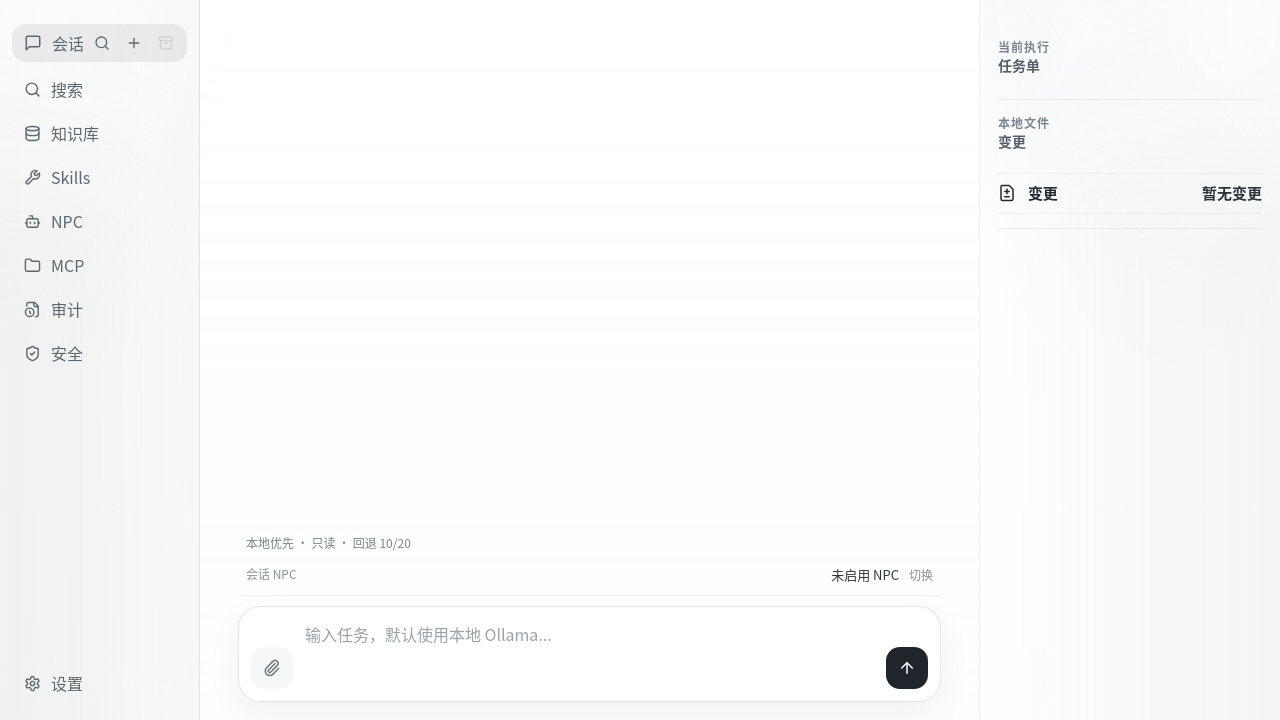
App chat fallback › preflights Ollama once when the user submits before startup model detection finishes
This screenshot has width=1280, height=720.
In the text box labelled "输入任务": (588, 654) x1=303 y1=619 x2=874 y2=689, type "解释一下享元模式"
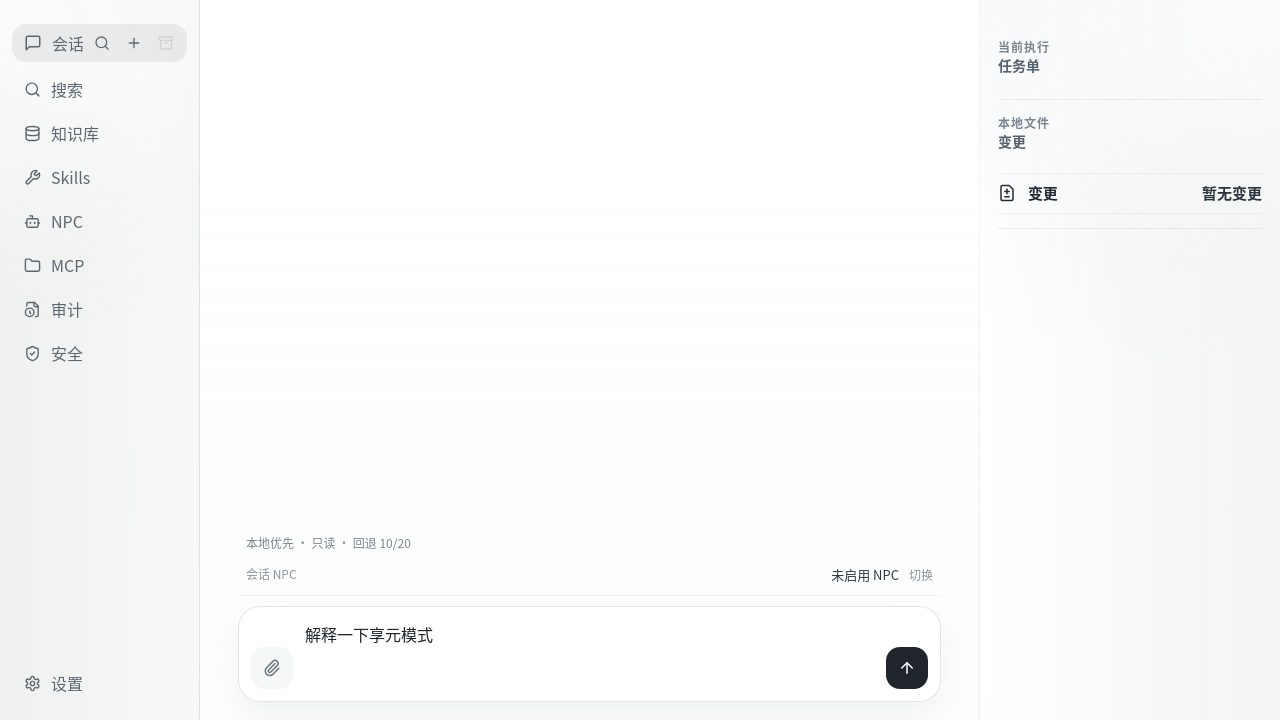
Click the button named "发送": (907, 668) x1=886 y1=647 x2=928 y2=689
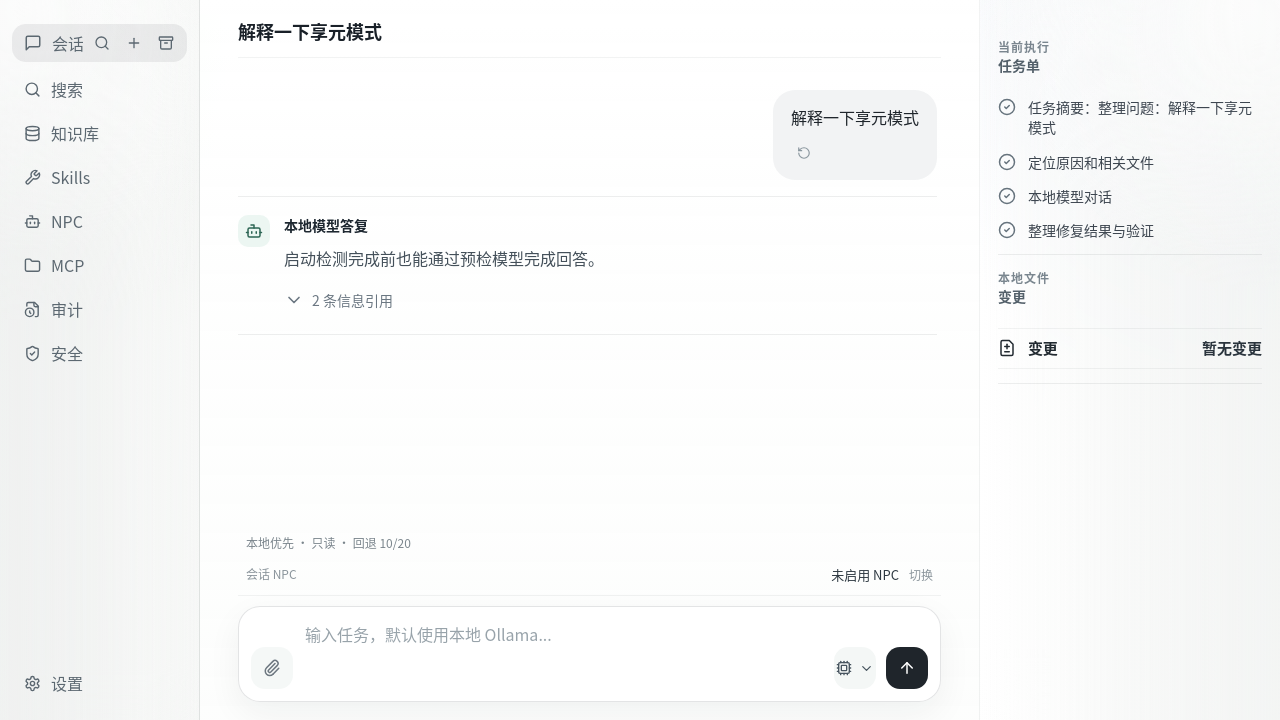
Check: the text "启动检测完成前也能通过预检模型完成回答。" is shown, box x1=284 y1=246 x2=604 y2=270
